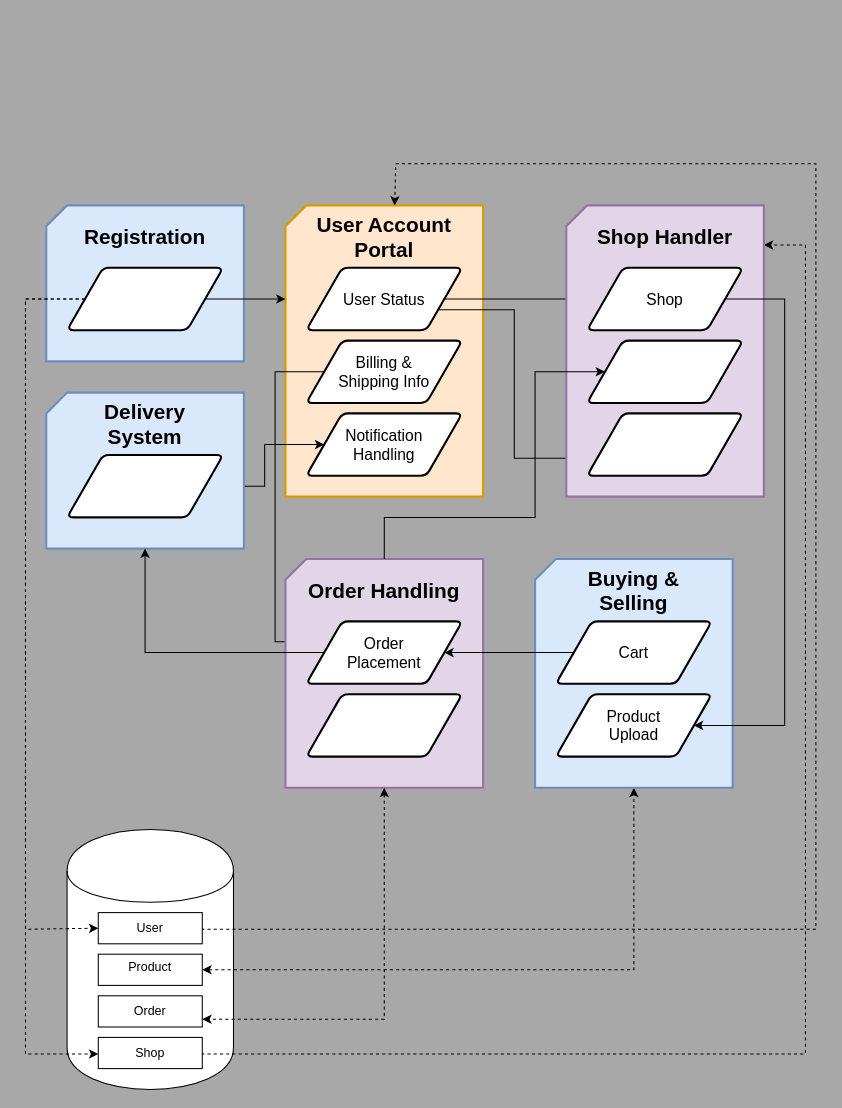
This 842x1108 diagram has some shape labels left out. Here are the shapes that lost their labels. From the top down, the centre of each, then its label:
(x=145, y=298): Account Creation
(x=665, y=371): Notifications
(x=665, y=444): Ratings + Review
(x=145, y=485): Order Progress
(x=384, y=725): Order Cancellation
